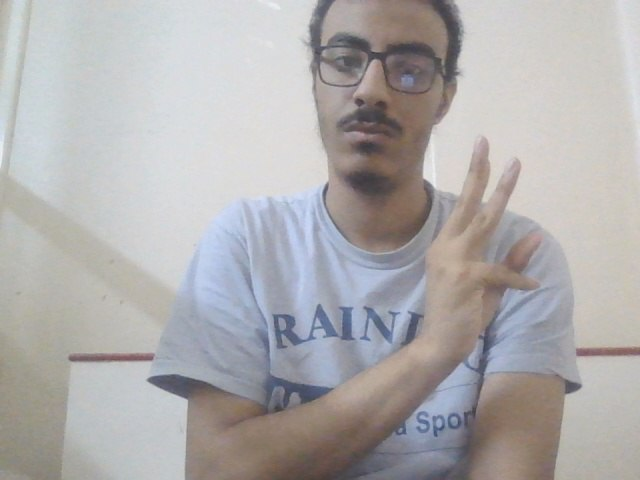Water: (420, 131, 552, 357)
